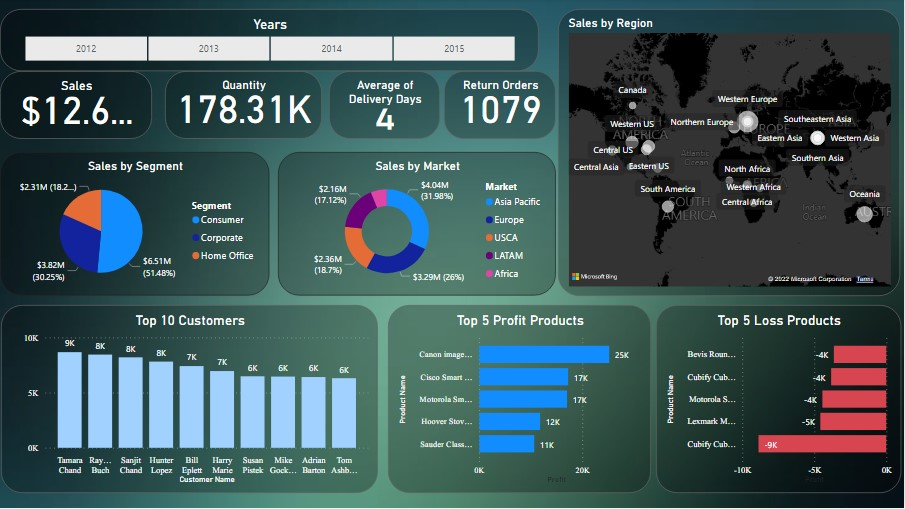

This screenshot's page, from the dashboard's own definition file:
{"tool":"powerbi","page":{"name":"Page 1","canvas":[1280,720],"ordinal":0},"visuals":[{"type":"card","title":"Sales","fields":{"Values":["Orders.Sales"]},"box":[0,102.5,215,95.7],"z":0},{"type":"card","title":"Quantity","fields":{"Values":["Orders.Quantity"]},"box":[233.5,102.5,221.7,95.7],"z":1000},{"type":"card","title":"Average of Delivery Days","fields":{"Values":["Orders.Delivery Days"]},"box":[465.4,101.8,157,96.2],"z":2000},{"type":"slicer","title":"Years","fields":{"Values":["Orders.Year"]},"box":[0,14.1,762.4,87.7],"z":3000},{"type":"card","title":"Return Orders","fields":{"Values":["Returns.Return Orders"]},"box":[628.1,101.8,158.4,96.2],"z":4000},{"type":"map","fields":{"Size":["Orders.Sales"],"Category":["Orders.Region"]},"box":[789.3,14.1,483.8,406],"z":5000},{"type":"barChart","title":"Top 5 Profit Products","fields":{"Y":["Orders.Profit"],"Category":["Orders.Product Name"]},"box":[548.8,432.8,372,265.9],"z":6000},{"type":"barChart","title":"Top 5 Loss Products","fields":{"Y":["Orders.Profit"],"Category":["Orders.Product Name"]},"box":[927.9,432.8,346.6,265.9],"z":7000},{"type":"pieChart","fields":{"Category":["Orders.Segment"],"Y":["Orders.Sales"]},"box":[0,216.7,381.3,203.3],"z":8000},{"type":"donutChart","fields":{"Y":["Orders.Sales"],"Category":["Orders.Market"]},"box":[393.1,216.7,393.1,203.3],"z":9000},{"type":"columnChart","title":"Top 10 Customers","fields":{"Y":["Orders.Profit"],"Category":["Orders.Customer Name"]},"box":[1.4,432.8,533.3,265.9],"z":10000}]}

Visuals, with their boxes in screenshot pixels (x1, y1, x2, y2), scaled from the page's 1280x720 canvas onto the 905x509 screenshot:
"Sales" card: BBox(0, 72, 152, 140)
"Quantity" card: BBox(165, 72, 322, 140)
"Average of Delivery Days" card: BBox(329, 72, 440, 140)
"Years" slicer: BBox(0, 10, 539, 72)
"Return Orders" card: BBox(444, 72, 556, 140)
map - Orders.Sales x Orders.Region: BBox(558, 10, 900, 297)
"Top 5 Profit Products" barChart: BBox(388, 306, 651, 494)
"Top 5 Loss Products" barChart: BBox(656, 306, 901, 494)
pieChart - Orders.Segment x Orders.Sales: BBox(0, 153, 270, 297)
donutChart - Orders.Sales x Orders.Market: BBox(278, 153, 556, 297)
"Top 10 Customers" columnChart: BBox(1, 306, 378, 494)
